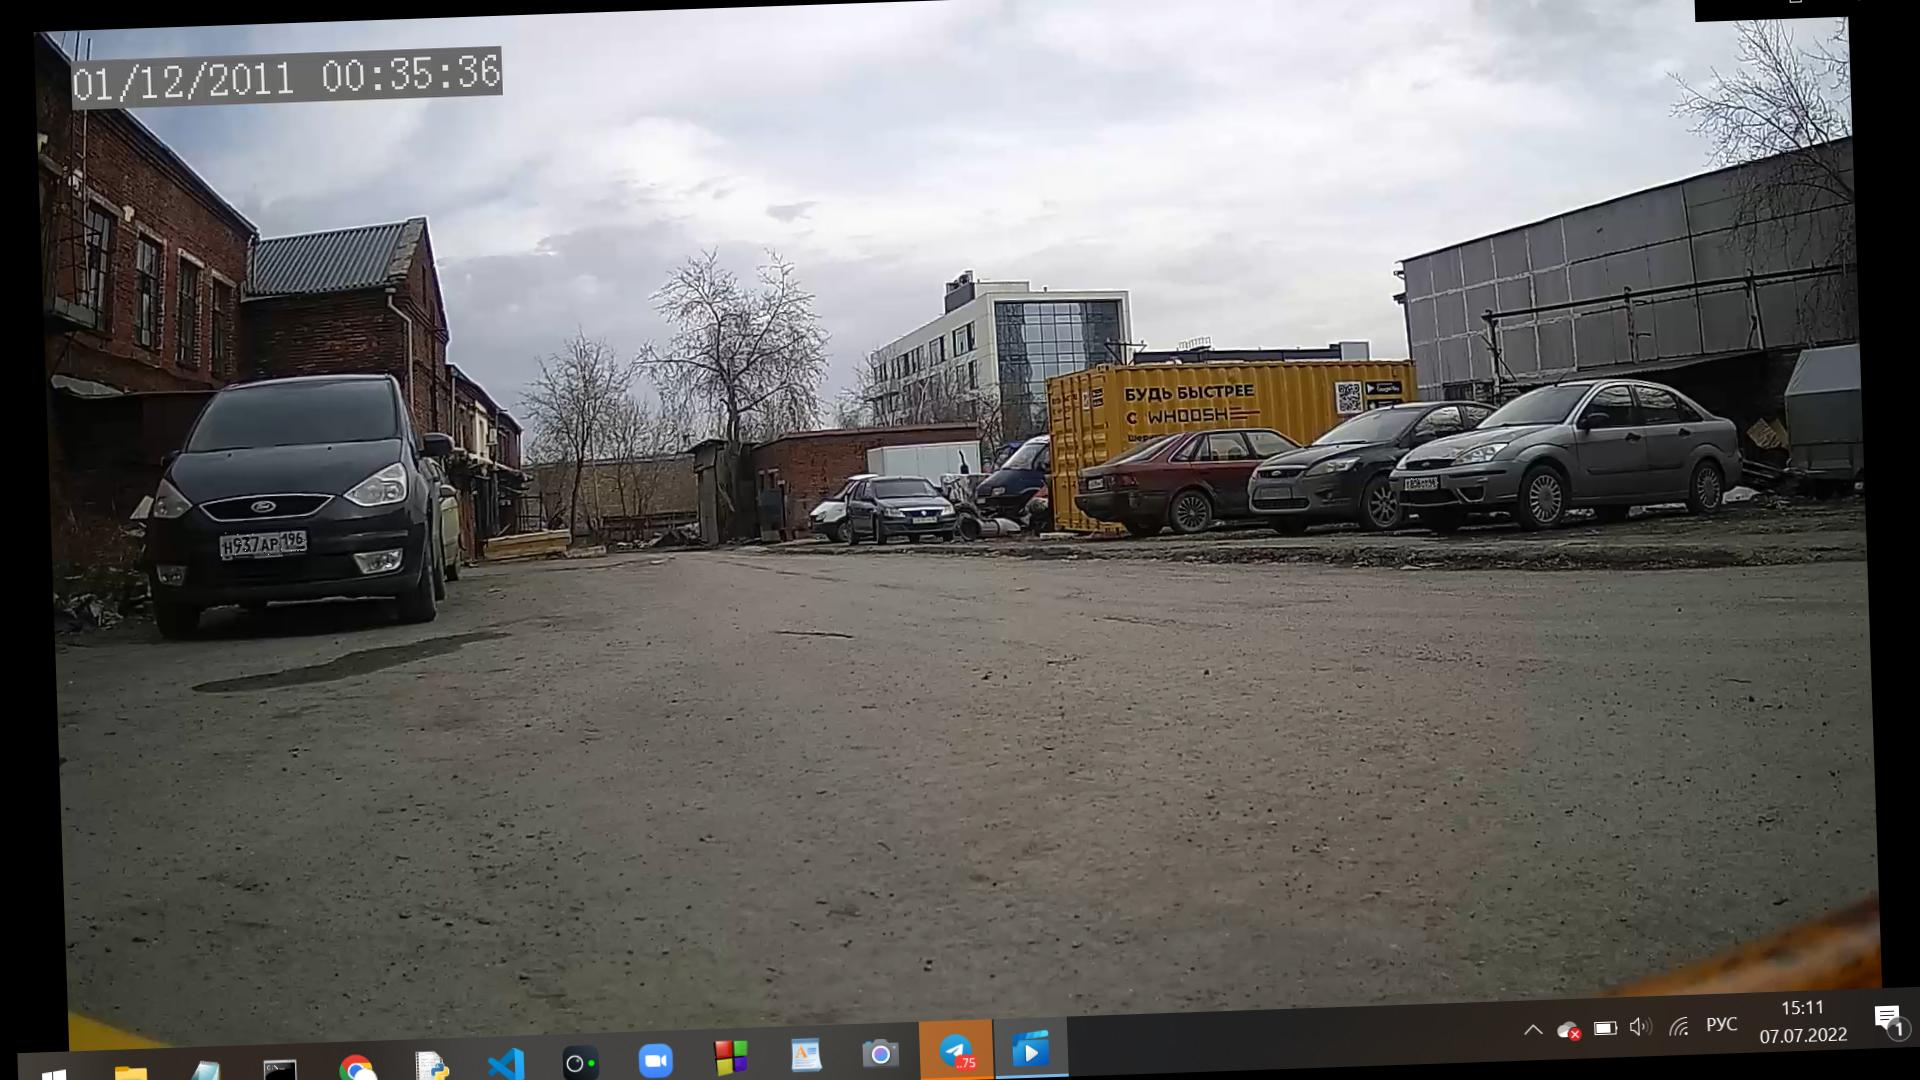plate: (221, 531, 310, 558), (1407, 479, 1441, 492)
